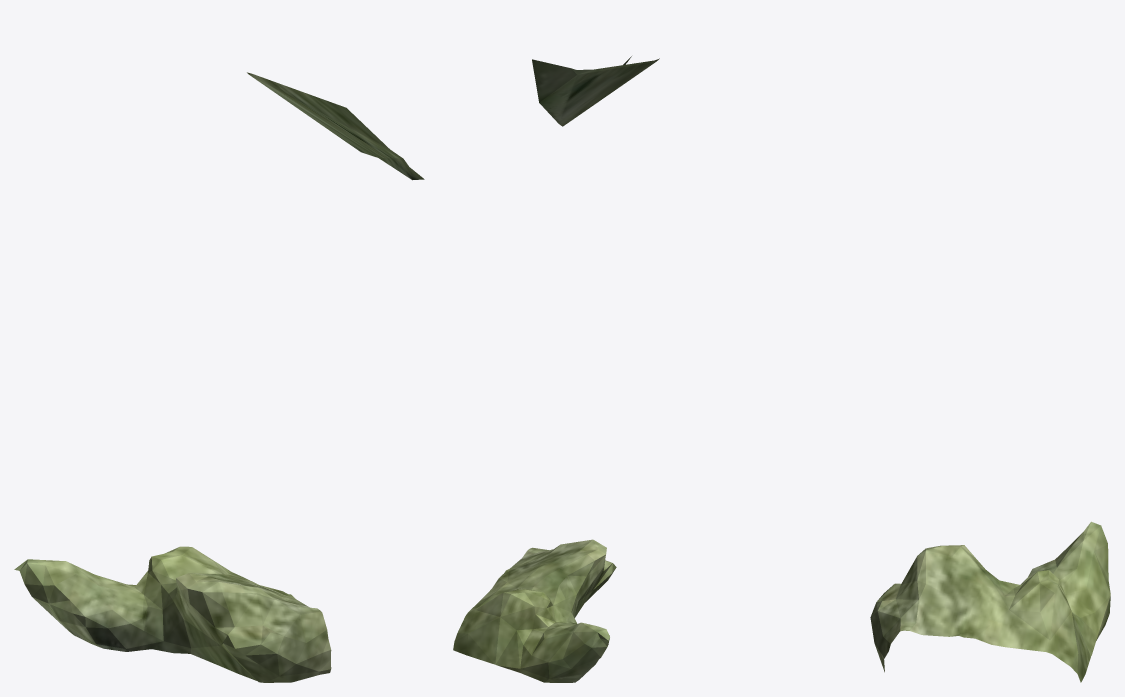
3 renders of one model, left to right at view 1: azimuth 30°, elevation 25°; view 2: azimuth 150°, elevation 25°; view 3: azimuth 270°, elevation 25°, orthographic. The views are drawn at different scales.
Bounding box in the file's own units: 1.9 × 5.9 × 3.51.
Materials: 1 (1 with a texture image).
